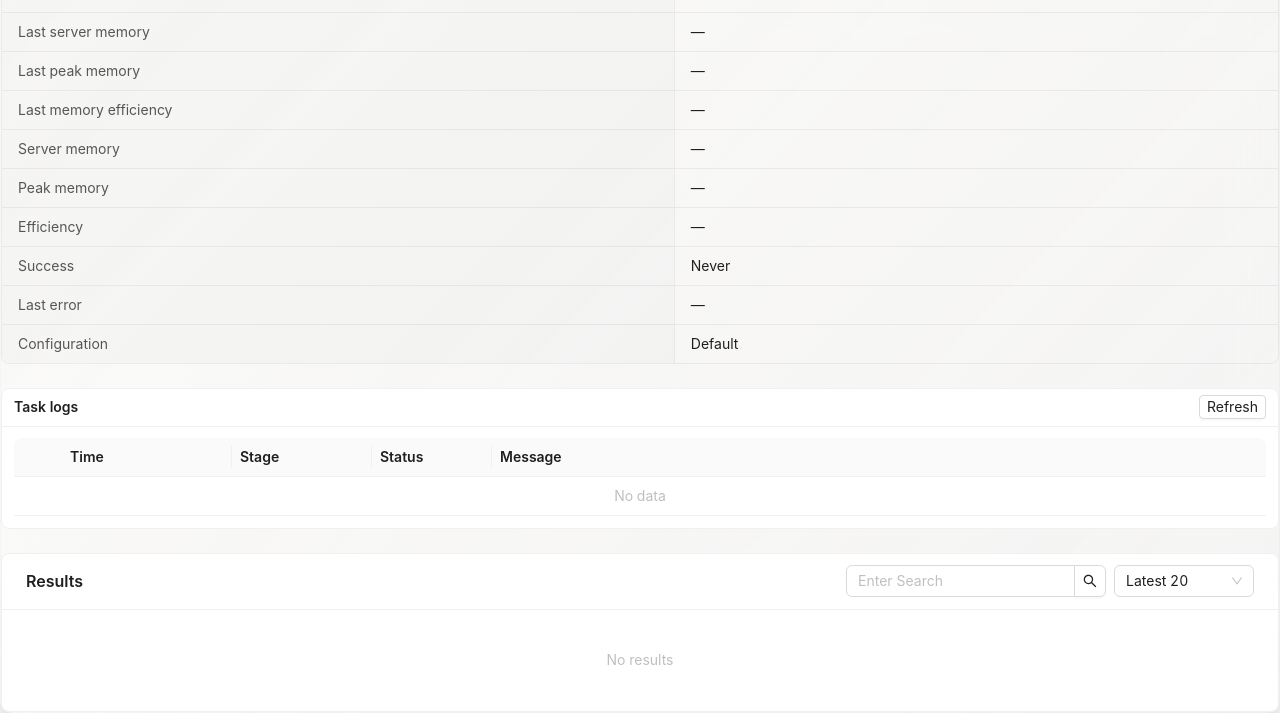
CrawlTaskDetail presentation（加载态 / 头部 / 告警 / 策略 / 配置 / logs） › Task logs 刷新失败：错误 Alert 与 message.error
(page scrolled)
Expected: the text "Task logs" is shown, [14,398,78,415]
Click the button "Refresh" at (1232, 407), box [1199,395,1266,419]
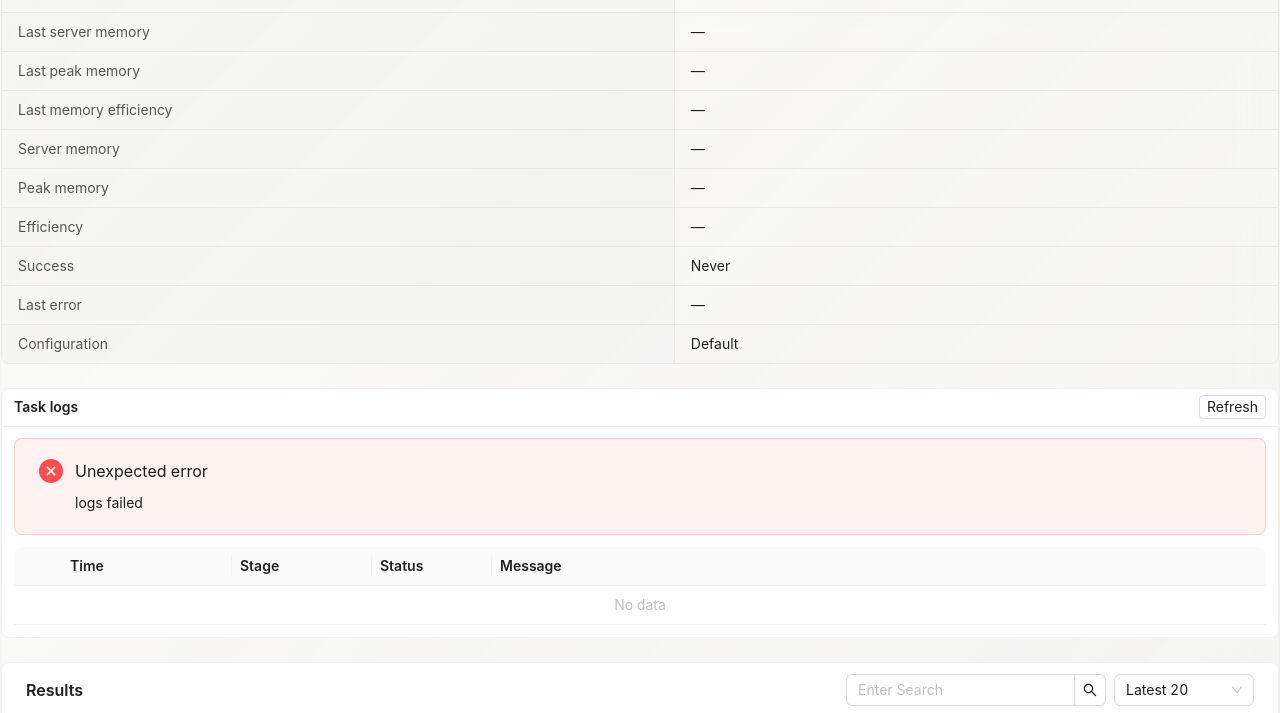
Result: the text "Unexpected error" is shown at [75,461,208,481]
Result: the text "logs failed" is shown at [75,494,143,511]
Result: the message "Unexpected error logs failed" is shown at [14,438,1266,535]
